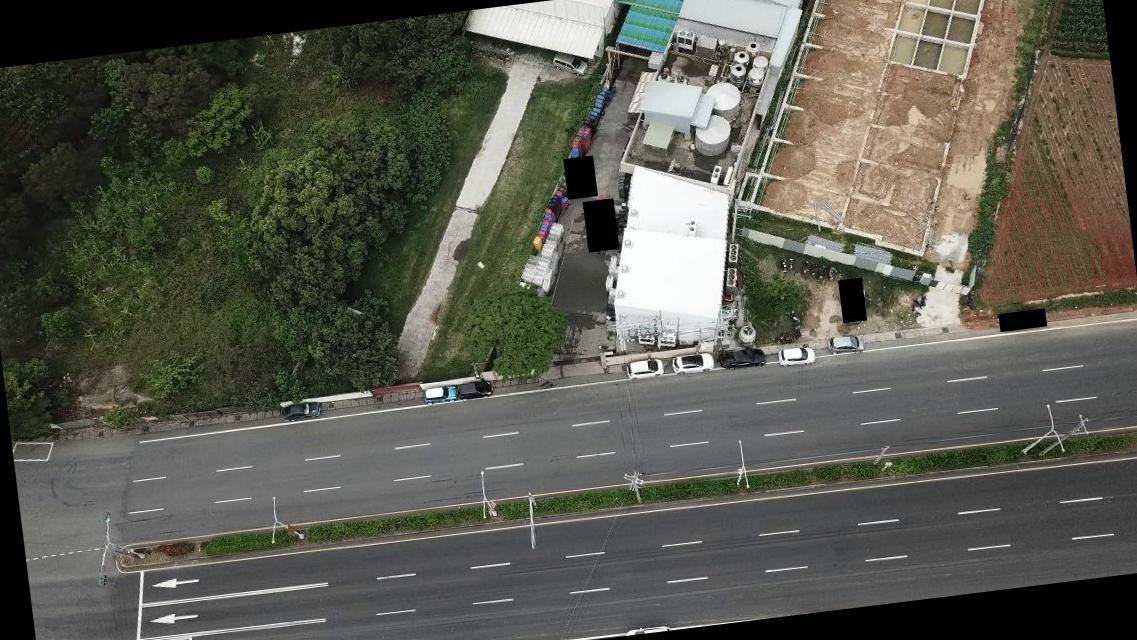vehicle: (716, 344, 766, 374), (826, 330, 868, 358), (669, 350, 713, 376), (776, 342, 818, 369), (626, 355, 664, 381), (279, 399, 321, 422), (421, 384, 458, 406), (456, 379, 495, 399)
